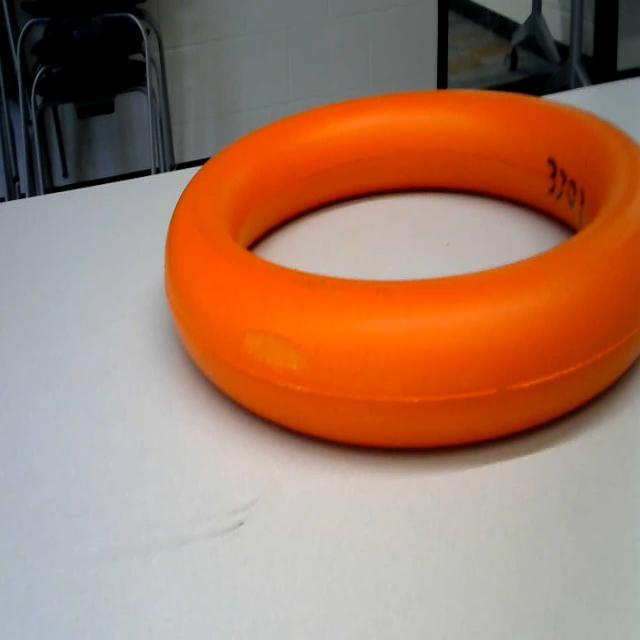note: (135, 69, 640, 466)
